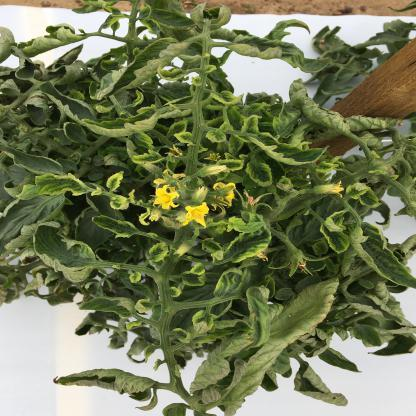Tomato leaf: (31, 215, 102, 290), (56, 96, 186, 136), (238, 115, 330, 169), (4, 167, 97, 214), (214, 210, 278, 266), (207, 252, 274, 300), (318, 210, 359, 260), (244, 157, 280, 187)
